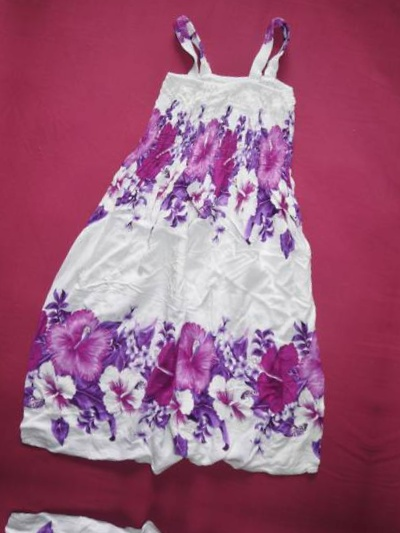Dress: (0, 0, 398, 503), (0, 495, 325, 533), (395, 53, 400, 533), (0, 0, 0, 444)
